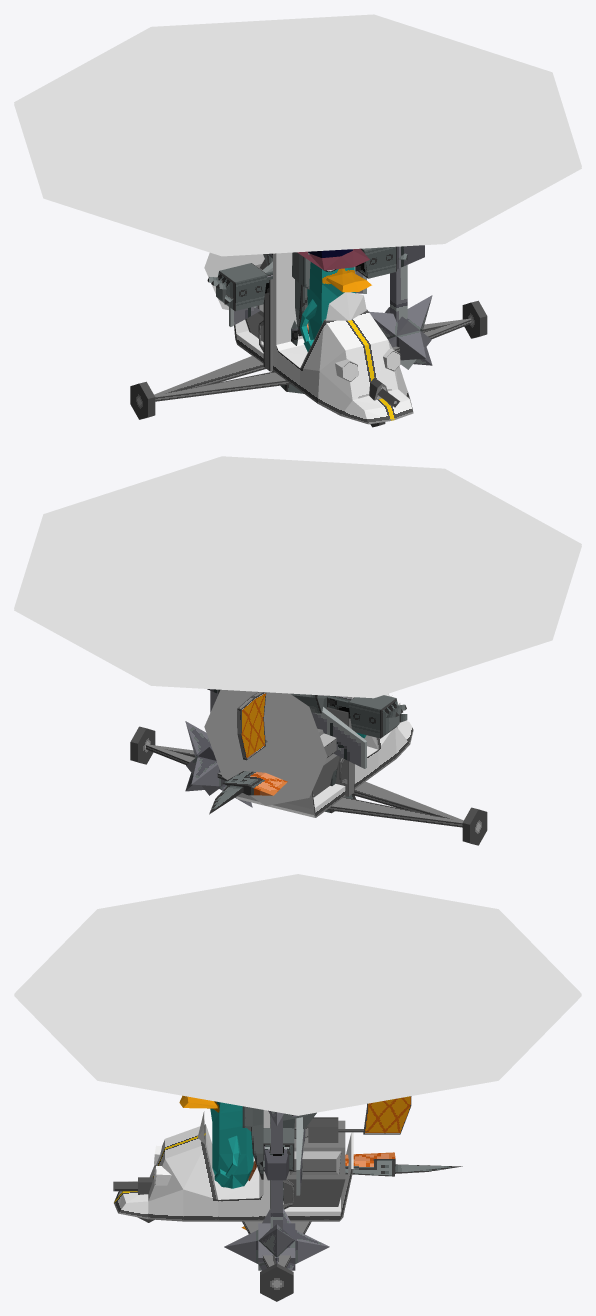
Rendered from Helicopter2.obj.
3 renders of one model, top to bottom at view 1: azimuth 30°, elevation 25°; view 2: azimuth 150°, elevation 25°; view 3: azimuth 270°, elevation 25°, orthographic. The views are drawn at different scales.
Parts seen in each view (by area): view 1: Helicopter, Platyborg.001; view 2: Helicopter, Platyborg.001; view 3: Helicopter, Platyborg.001.
Boxes of the visible parts, x1,y1,x2,y2 form: Helicopter: [14, 14, 581, 427]; Platyborg.001: [207, 245, 432, 393]; Helicopter: [14, 456, 581, 845]; Platyborg.001: [185, 689, 407, 814]; Helicopter: [14, 874, 581, 1301]; Platyborg.001: [224, 1106, 462, 1270].
Bounding box in the file's own units: 1.53 × 0.7292 × 1.53.
